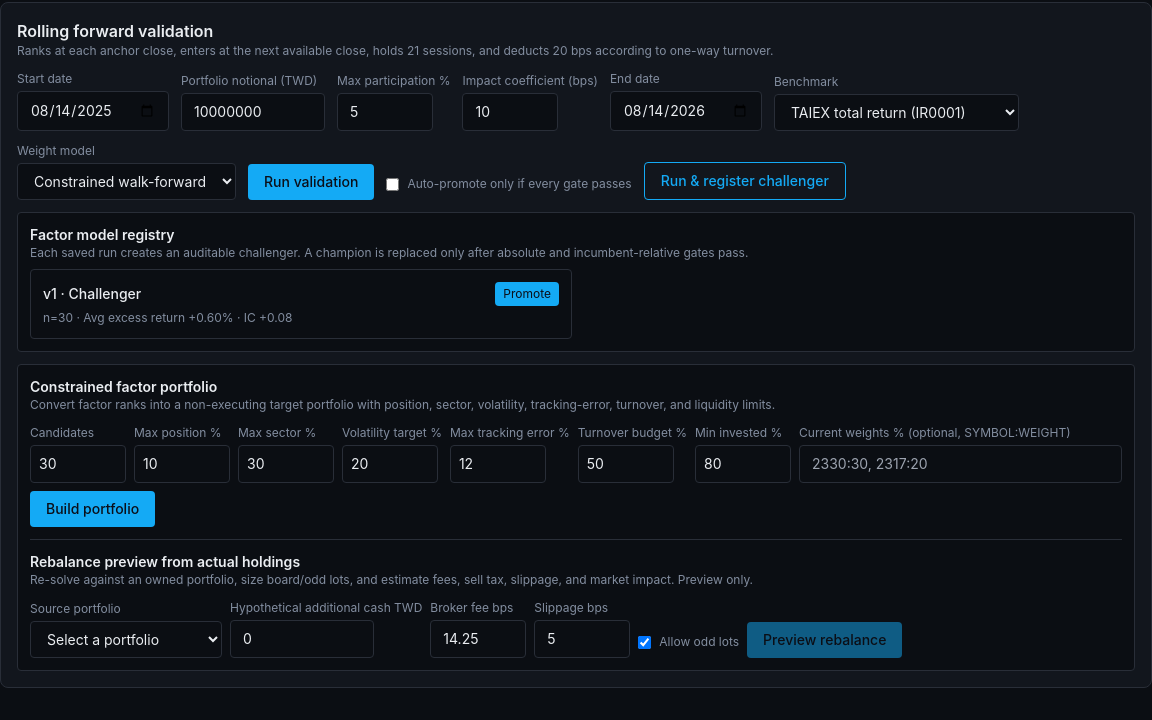
FactorRankingPanel › rejects malformed current weights before portfolio submission
(page scrolled)
Type "2330:80, 2317:30" into the field labelled "Current weights % (optional, SYMBOL:WEIGHT)" at (960, 464), box [799, 445, 1122, 483]
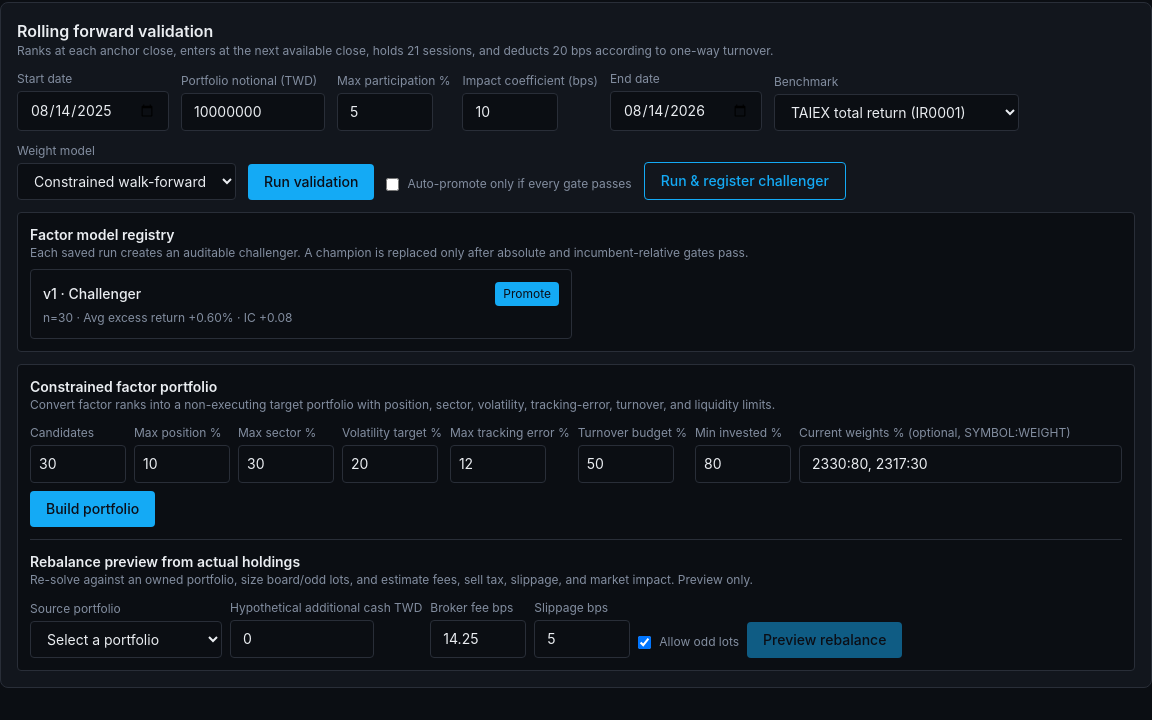
Click the button "Build portfolio" at (93, 509), box [30, 491, 155, 527]
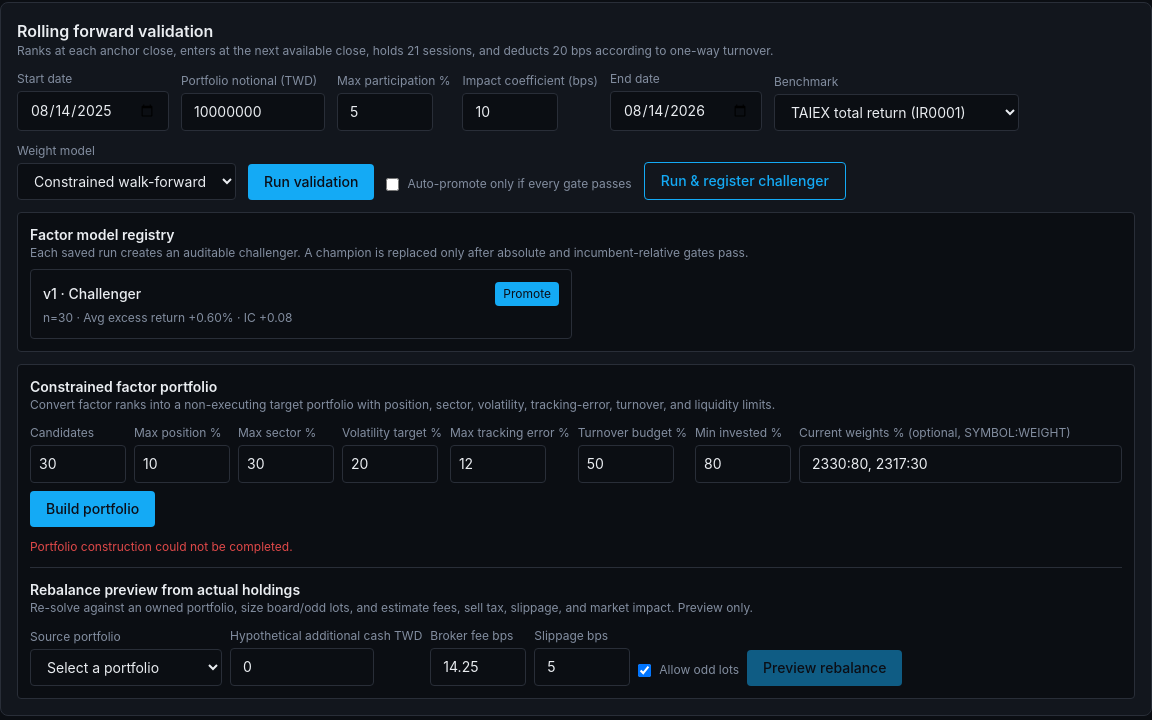
Check: the text "Portfolio construction could not be completed." is shown, box [30, 539, 293, 554]
